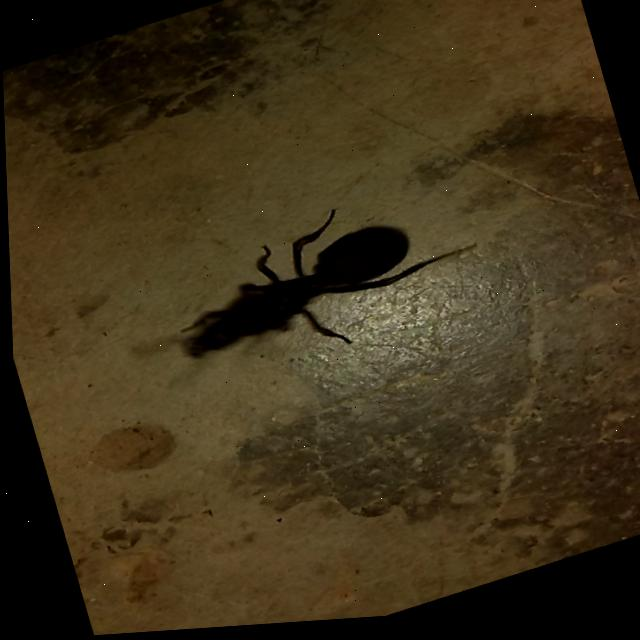Alive-Female-Dealate: (108, 172, 493, 412)
